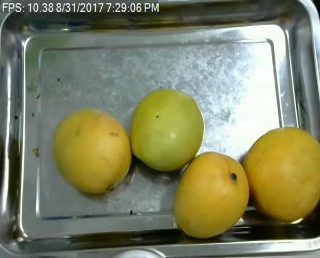Mango: (241, 128, 320, 221), (54, 104, 133, 192), (173, 151, 251, 237), (130, 88, 205, 170)
